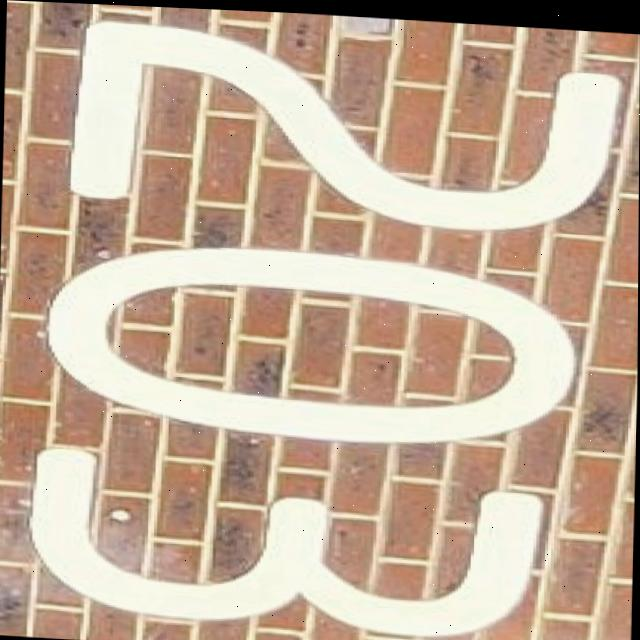character: (61, 16, 638, 246), (34, 229, 585, 461), (23, 443, 555, 640)
